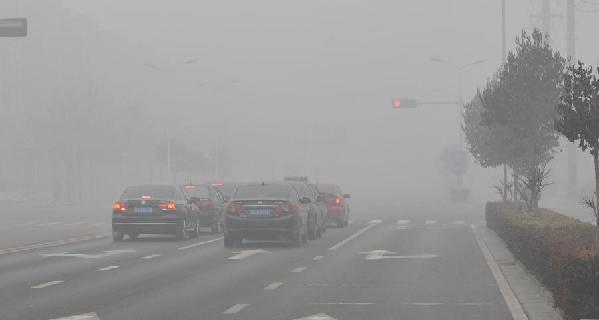car: (222, 181, 311, 248), (112, 185, 200, 242), (158, 176, 230, 234), (263, 177, 327, 240), (192, 182, 244, 229), (301, 183, 351, 228)
